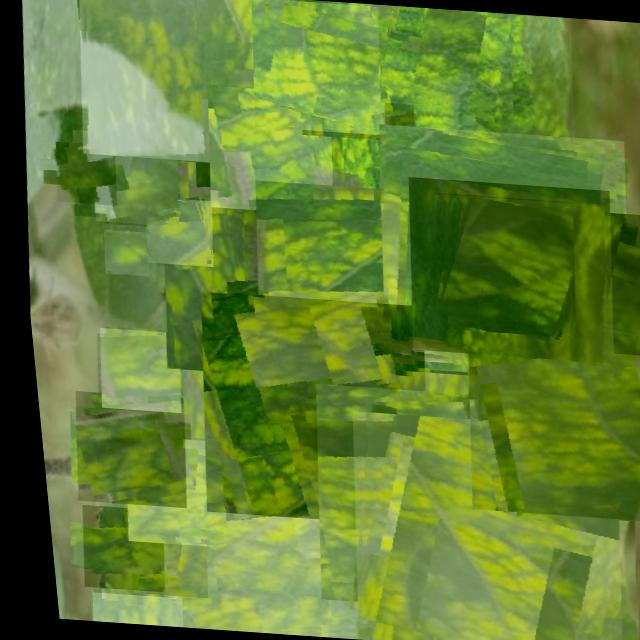leaf_spot: (359, 123, 639, 382), (328, 409, 623, 640), (320, 0, 587, 240), (179, 290, 433, 526), (292, 382, 540, 612), (137, 436, 369, 640), (392, 175, 618, 362), (447, 314, 640, 521), (68, 0, 302, 166), (144, 158, 314, 376), (240, 179, 434, 359), (423, 191, 578, 336), (242, 0, 391, 134), (197, 83, 337, 214), (370, 3, 517, 110), (291, 22, 419, 142), (538, 207, 640, 356), (60, 389, 183, 506), (110, 442, 222, 546), (84, 137, 180, 226), (66, 504, 158, 590), (87, 326, 178, 412), (111, 512, 201, 596), (137, 196, 212, 266), (48, 140, 116, 204), (78, 591, 172, 627), (96, 228, 146, 275)
